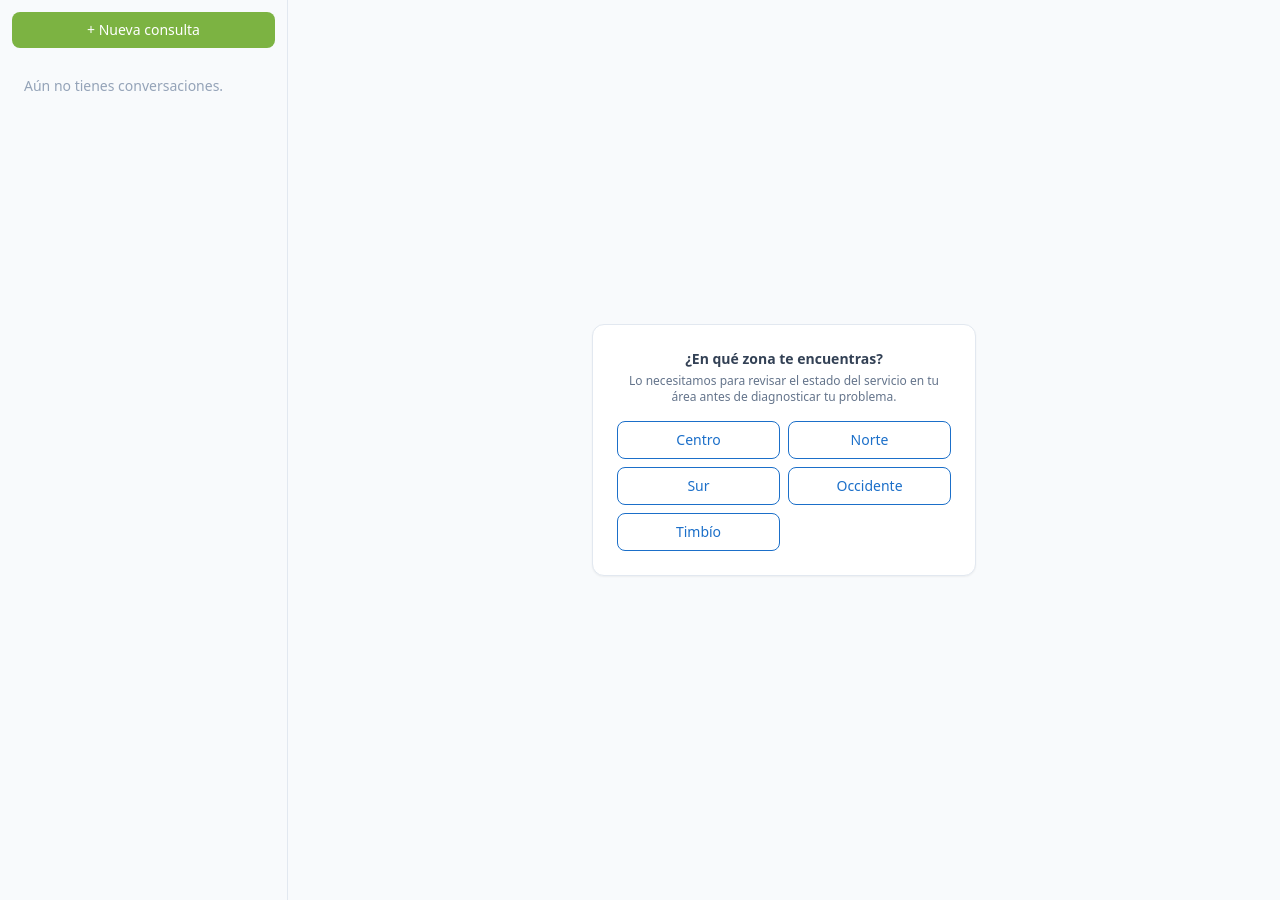
Test: ChatPage › permite crear un ticket de soporte después de la respuesta de IA
The image size is (1280, 900).
Click the button "Centro" at (698, 440), box [617, 421, 780, 459]
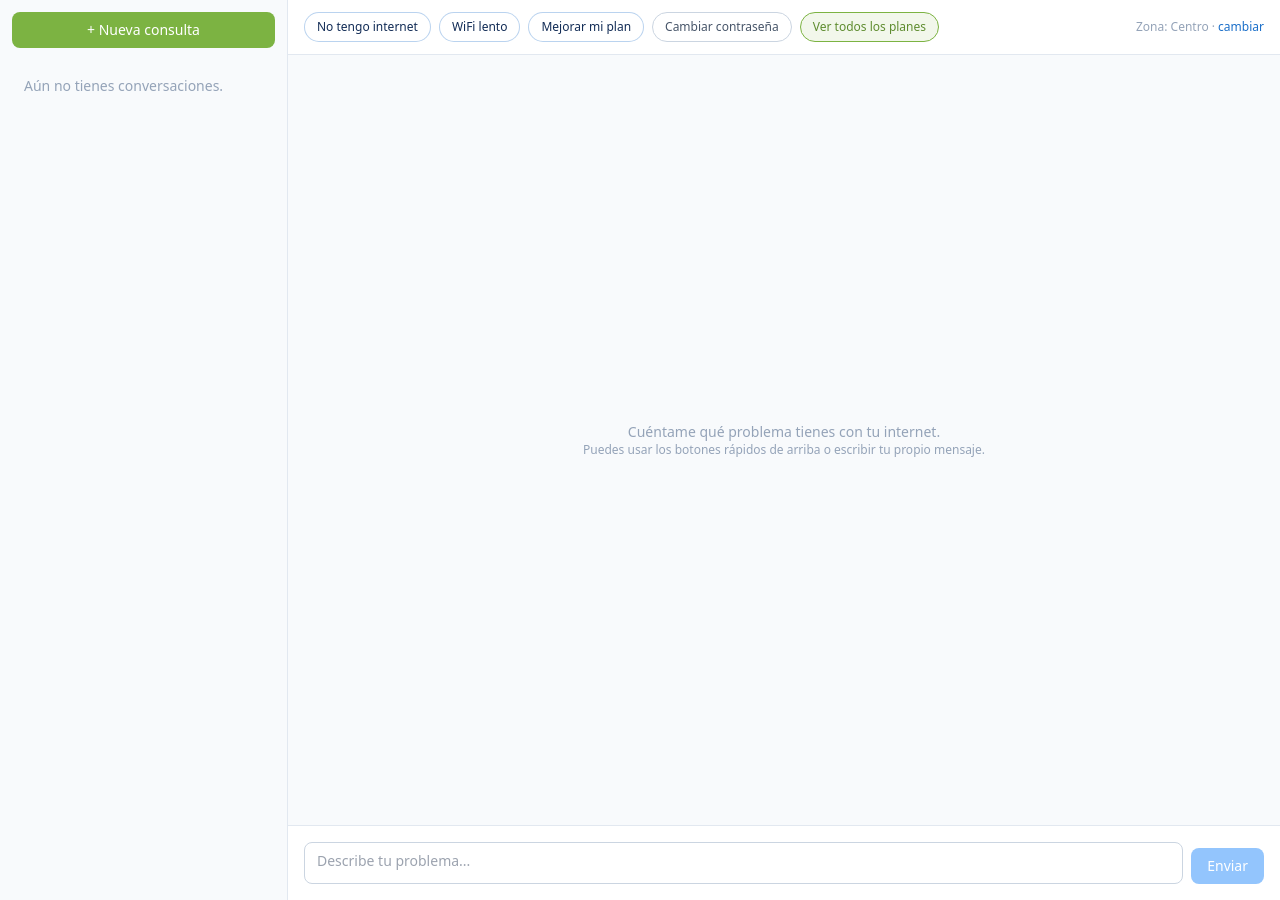
Click the button "No tengo internet" at (367, 27), box [304, 12, 431, 42]
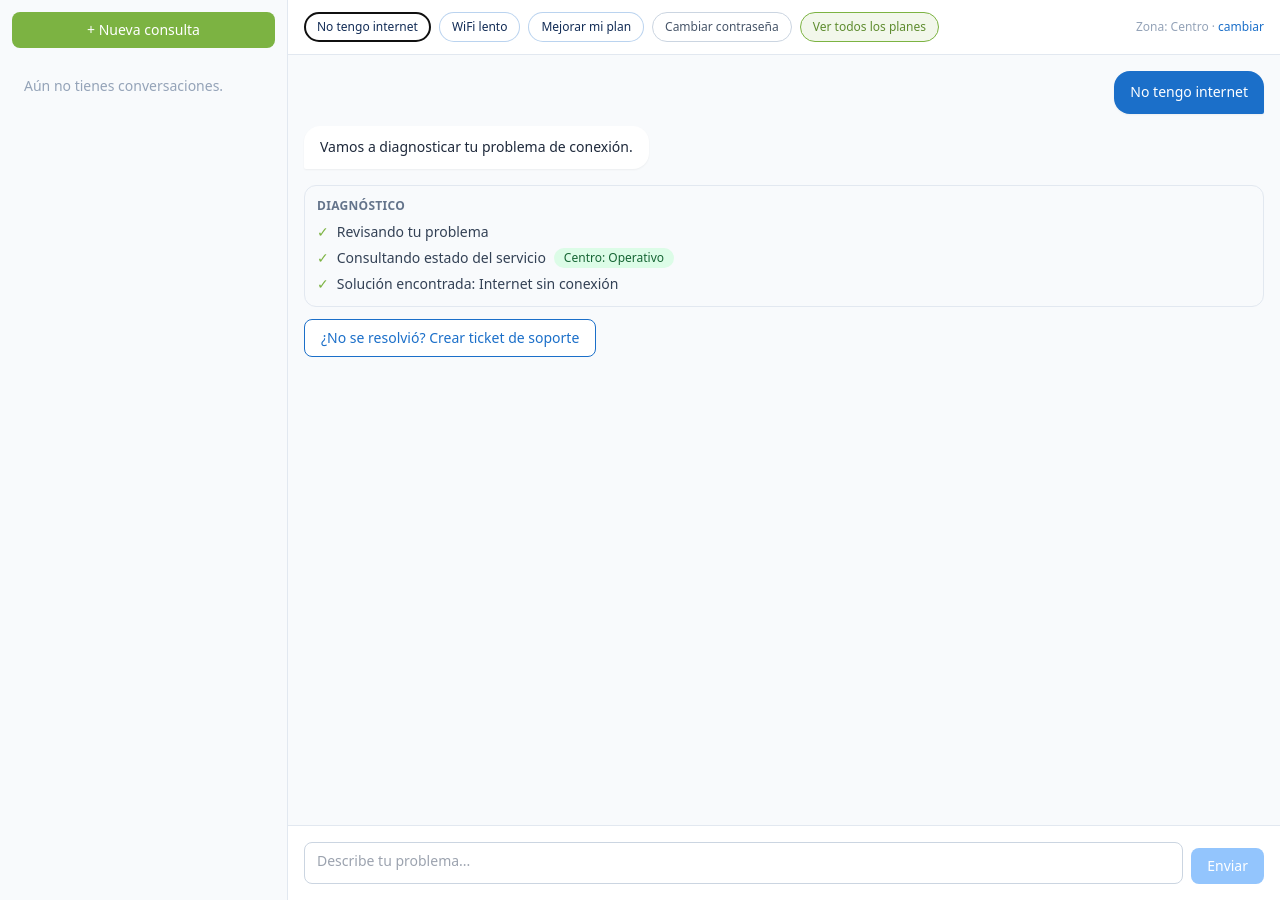
Now the text "Diagnóstico" is shown, box [317, 196, 405, 214]
Click the button "¿No se resolvió? Crear ticket de soporte" at (450, 338), box [304, 318, 596, 356]
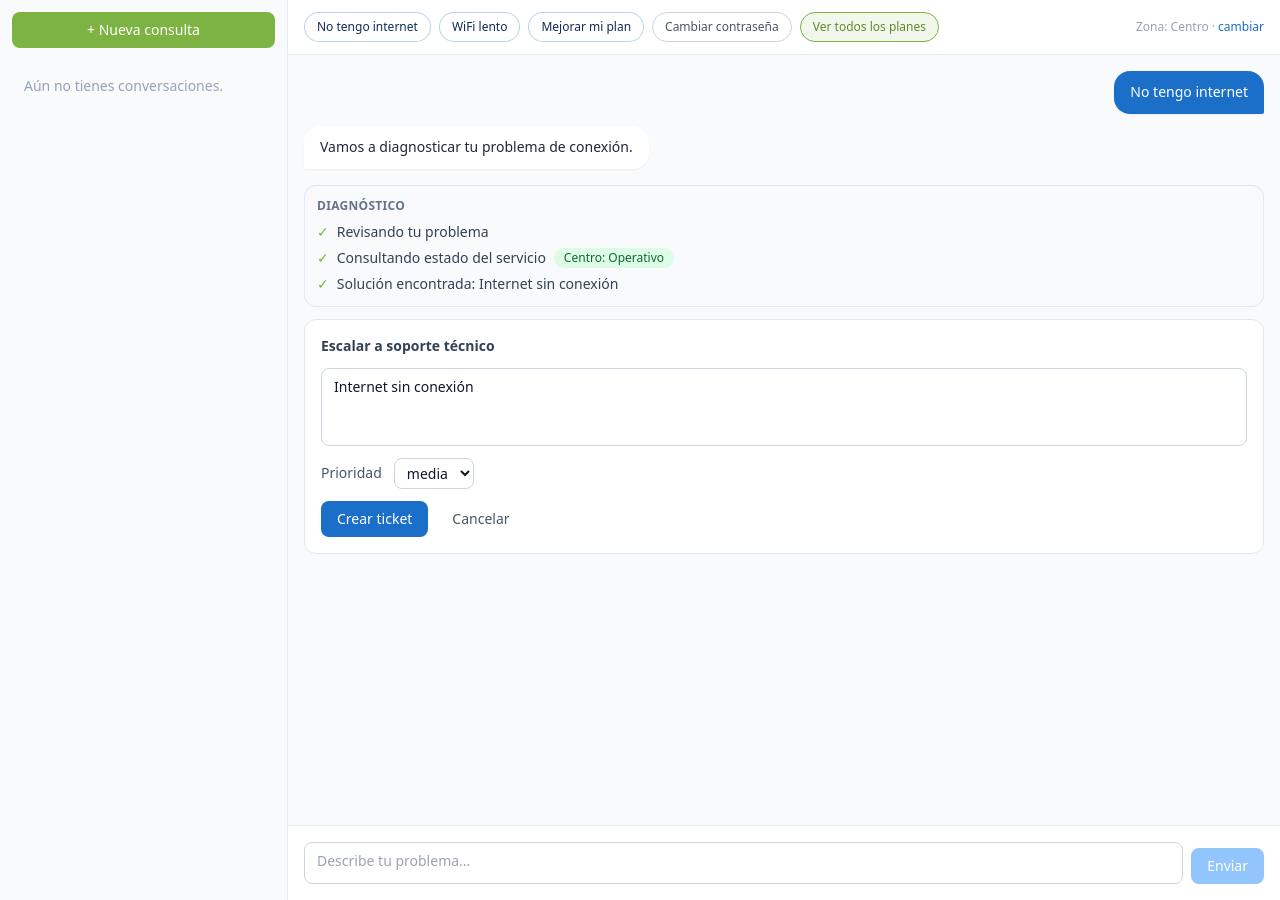
Click the button "Crear ticket" at (375, 518), box [321, 500, 428, 536]
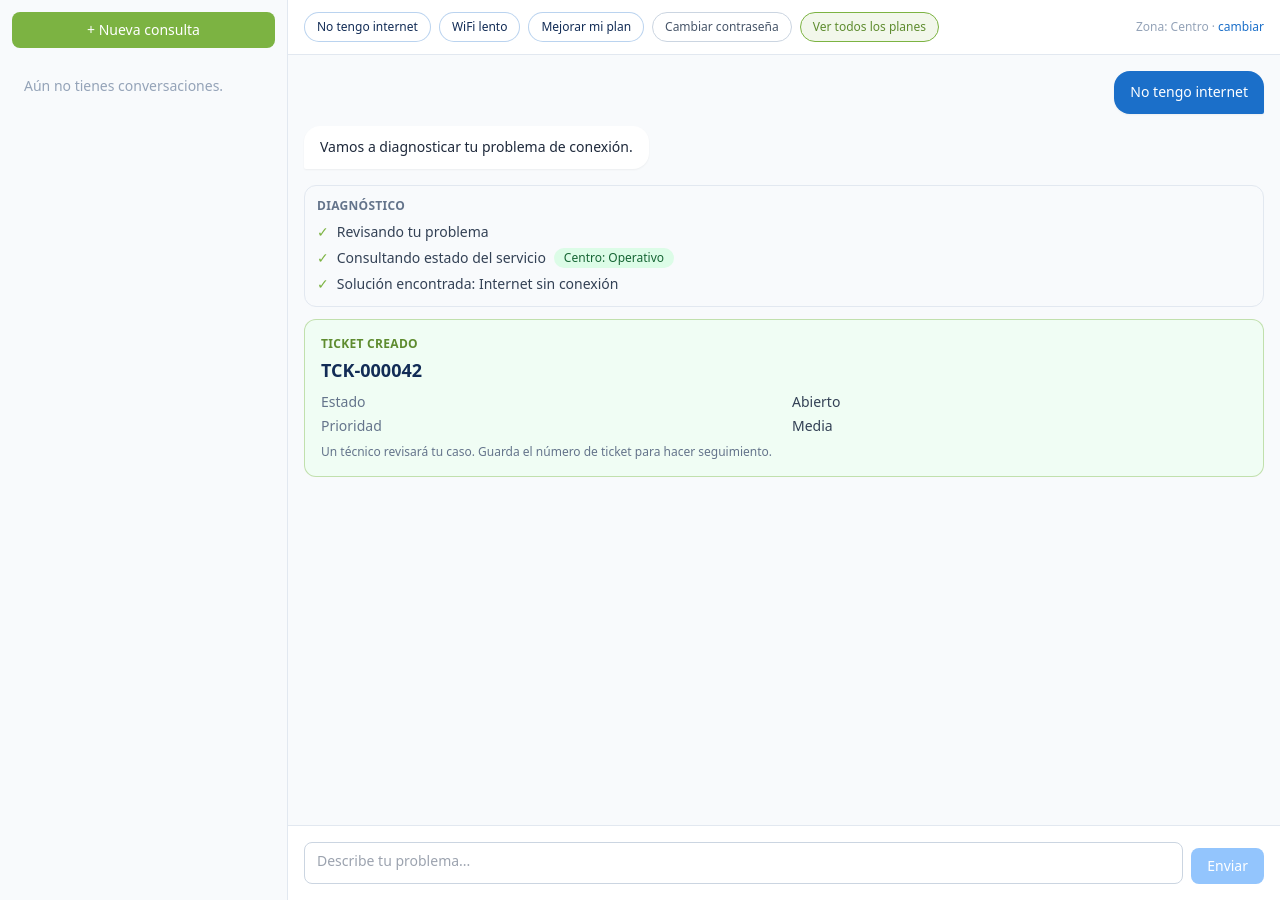
Now the text "TCK-000042" is shown, box [321, 358, 422, 382]
